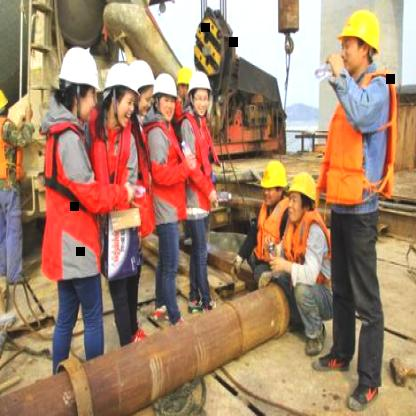helmet: (332, 6, 385, 60), (54, 41, 100, 97), (100, 57, 139, 103), (286, 167, 320, 212), (257, 154, 291, 198), (126, 56, 158, 92), (150, 68, 180, 106), (185, 69, 216, 95), (0, 82, 11, 119)
